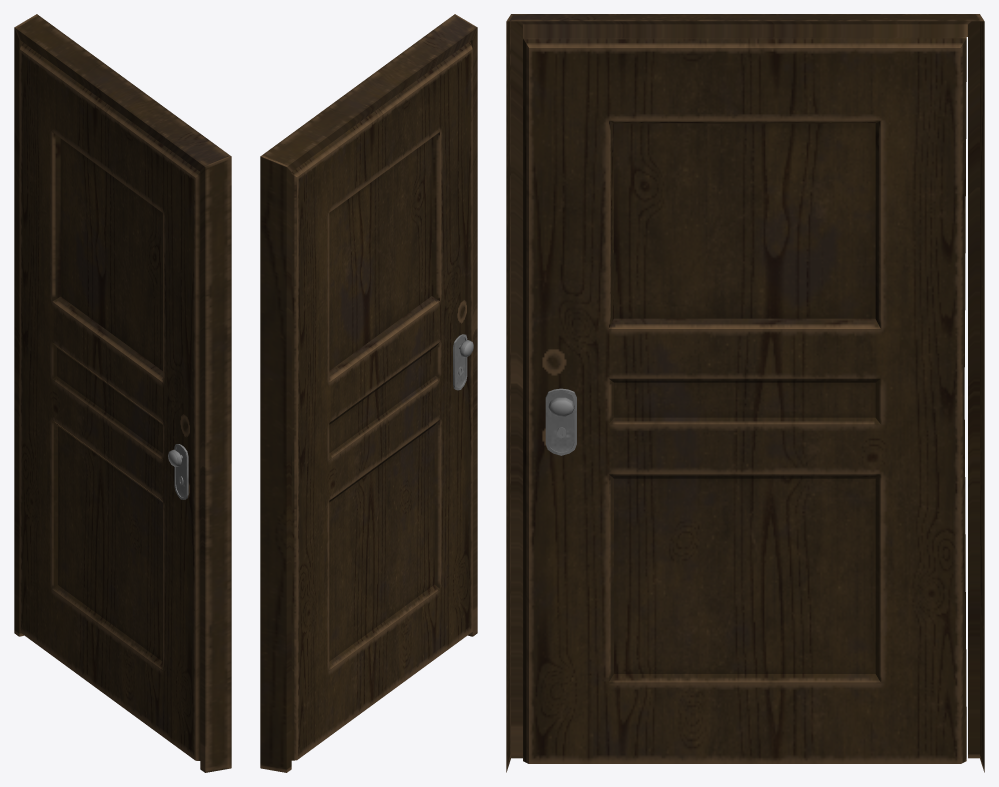
The model's file is Door houses.fbx.
The picture shows the model from 3 angles, left to right: view 1: azimuth 30°, elevation 25°; view 2: azimuth 150°, elevation 25°; view 3: azimuth 270°, elevation 25°; orthographic projection. The views are drawn at different scales.
Visible parts, largest first — view 1: FrontDoor.002, FrontDoorFrame.002; view 2: FrontDoor.002, FrontDoorFrame.002; view 3: FrontDoor.002, FrontDoorFrame.002.
Boxes of the visible parts, <box> form: FrontDoor.002: <box>20,42,200,760</box>; FrontDoorFrame.002: <box>14,14,231,772</box>; FrontDoor.002: <box>291,41,473,760</box>; FrontDoorFrame.002: <box>260,14,477,772</box>; FrontDoor.002: <box>523,37,966,763</box>; FrontDoorFrame.002: <box>506,14,984,772</box>.
Bounding box in the file's own units: 21.23 × 239 × 138.
